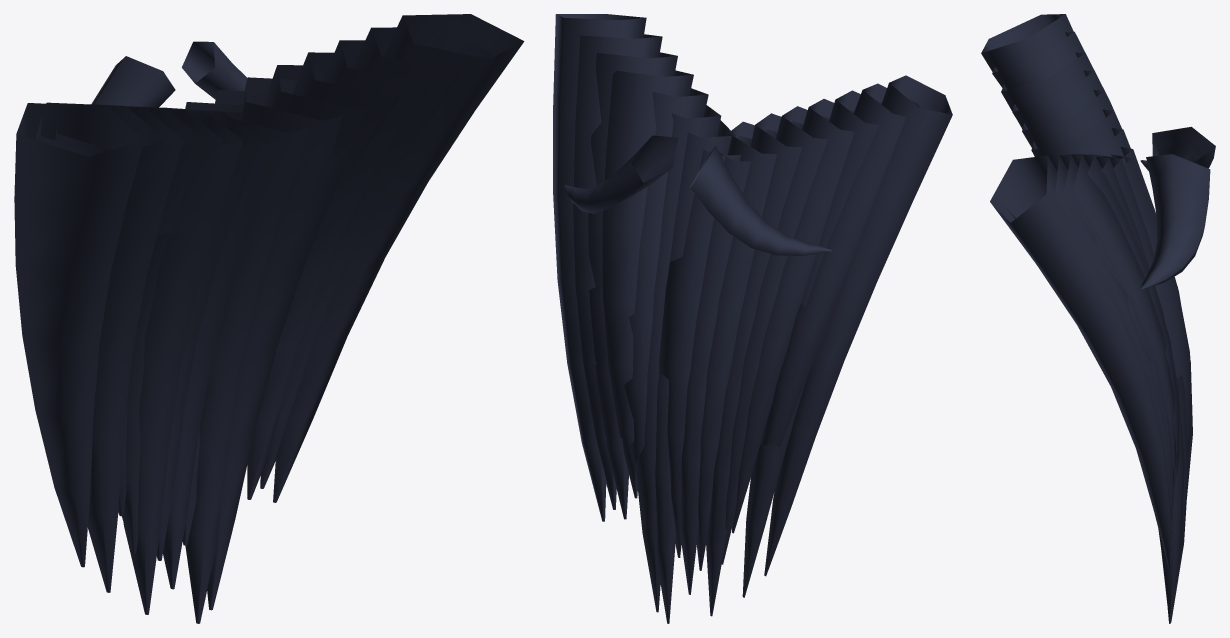
The model's file is anime_beard.glb.
3 views of the same model, side by side, from view 1: azimuth 30°, elevation 25°; view 2: azimuth 150°, elevation 25°; view 3: azimuth 270°, elevation 25° (orthographic). The views are drawn at different scales.
Visible parts, largest first — view 1: beard; view 2: beard; view 3: beard.
Part boxes in pixels (<box>): beard: <box>14,14,524,623</box>; beard: <box>553,14,952,623</box>; beard: <box>981,14,1215,623</box>.
Bounding box in the file's own units: 0.2164 × 0.2661 × 0.1088.
